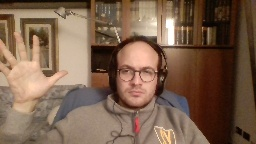Mano_aperta: (0, 29, 69, 105)
